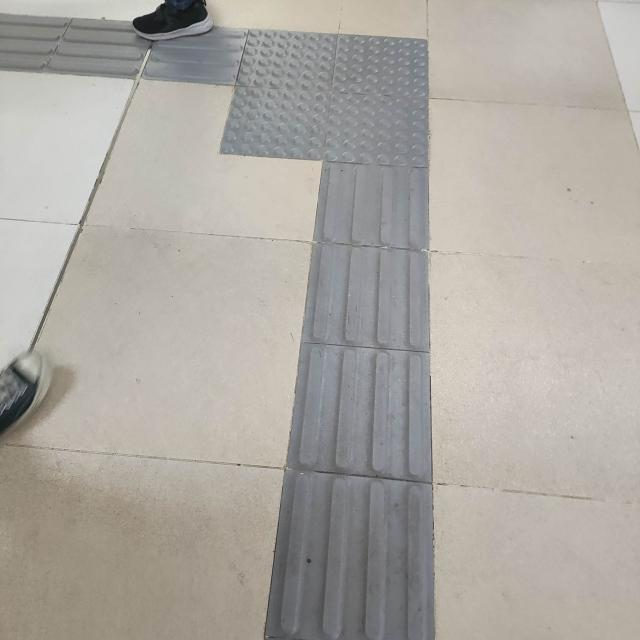kiri: (111, 11, 481, 218)
